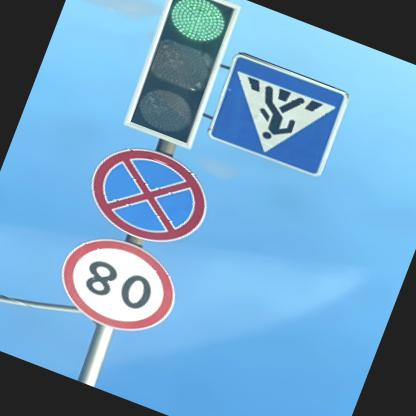crosswalk: (202, 51, 350, 181)
speedlimit: (45, 223, 188, 347)
trafficlight: (117, 0, 242, 151)
